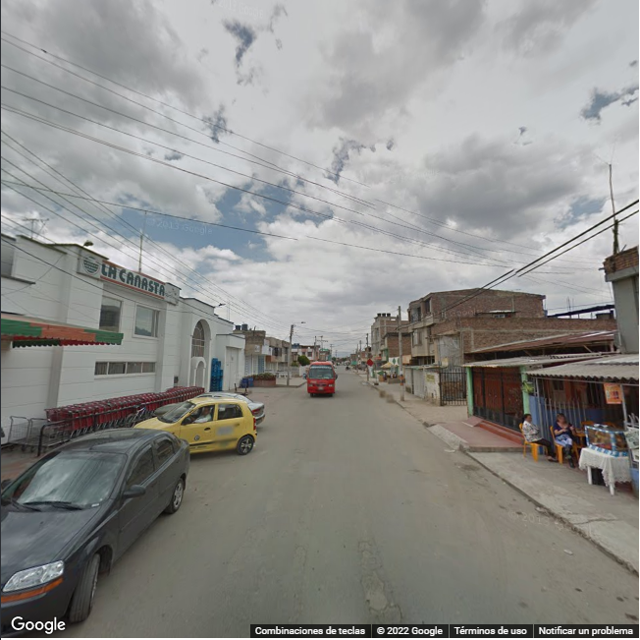D00: (374, 540, 403, 620), (223, 524, 254, 571), (297, 537, 310, 603)
D40: (356, 580, 395, 610)
